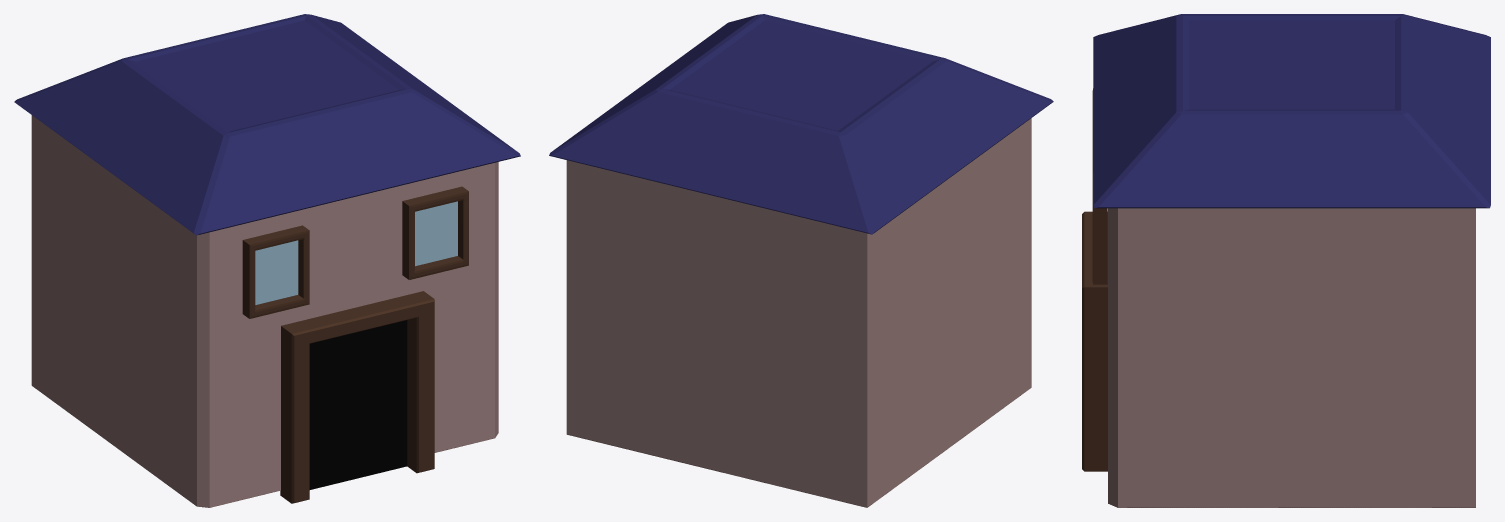
Rendered from House4.fbx.
3 views of the same model, side by side, from view 1: azimuth 30°, elevation 25°; view 2: azimuth 150°, elevation 25°; view 3: azimuth 270°, elevation 25° (orthographic). The views are drawn at different scales.
Parts seen in each view (by area): view 1: Cube.004; view 2: Cube.004; view 3: Cube.004.
Part boxes in pixels (x1,y1,x2,y2): Cube.004: (14, 14, 520, 507); Cube.004: (549, 14, 1053, 507); Cube.004: (1082, 14, 1490, 507).
Bounding box in the file's own units: 2380 × 2386 × 2385.
